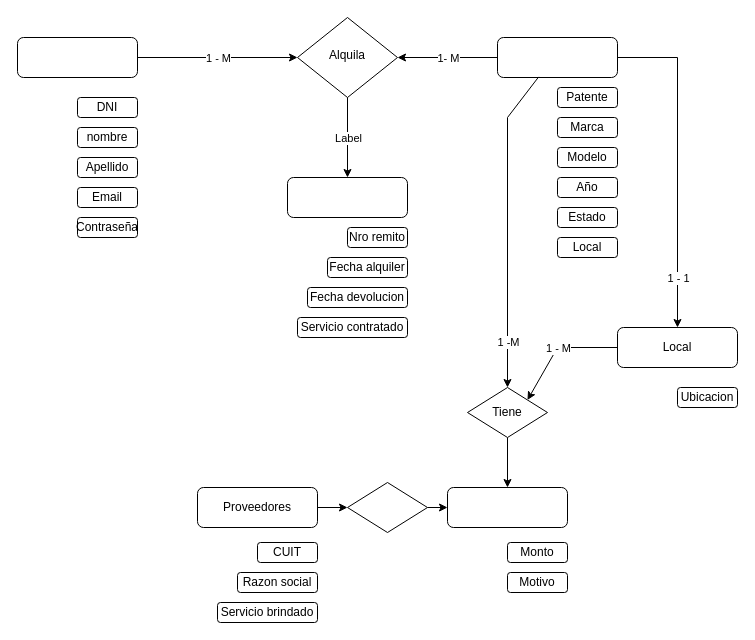
This 755x640 diagram has some shape labels left out. The centre of each missing label's shape, as x and y in pixels:
Alquiler: (347,197)
Auto: (557,57)
cobran: (387,507)
Gastos: (507,507)
Usuario: (77,57)
